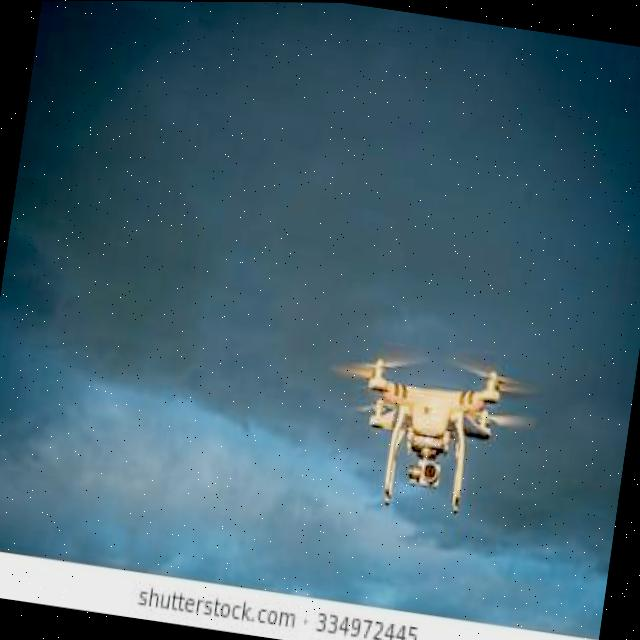drone: (275, 321, 584, 542)
